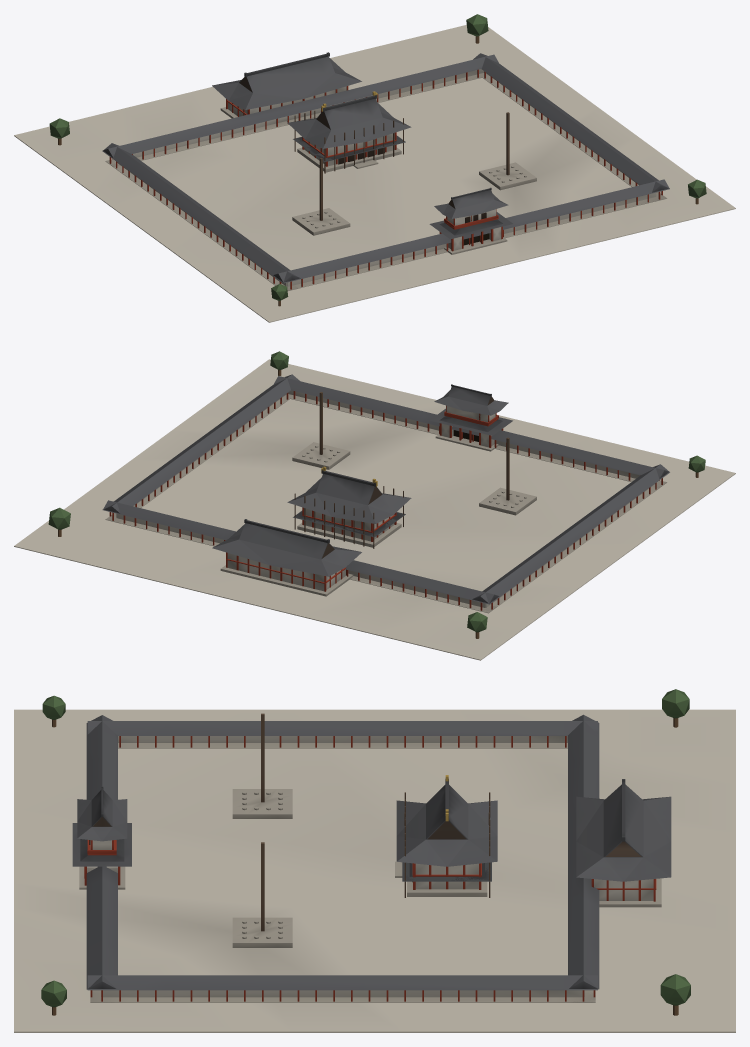
The model's file is yakushiji-720.glb.
3 renders of one model, top to bottom at view 1: azimuth 30°, elevation 25°; view 2: azimuth 150°, elevation 25°; view 3: azimuth 270°, elevation 25°, orthographic. The views are drawn at different scales.
Parts seen in each view (by area): view 1: p0_grounds, p1_halls, p2_roofs; view 2: p0_grounds, p1_halls, p2_roofs; view 3: p0_grounds, p1_halls, p2_roofs.
Boxes of the visible parts, x1,y1,x2,y2 form: p0_grounds: (14,25,735,322); p1_halls: (102,53,669,290); p2_roofs: (49,14,706,306); p0_grounds: (14,359,735,660); p1_halls: (102,374,669,613); p2_roofs: (48,351,705,638); p0_grounds: (14,709,735,1032); p1_halls: (79,713,661,1002); p2_roofs: (41,689,690,1015).
Bounding box in the file's own units: 190 × 25.68 × 180.
